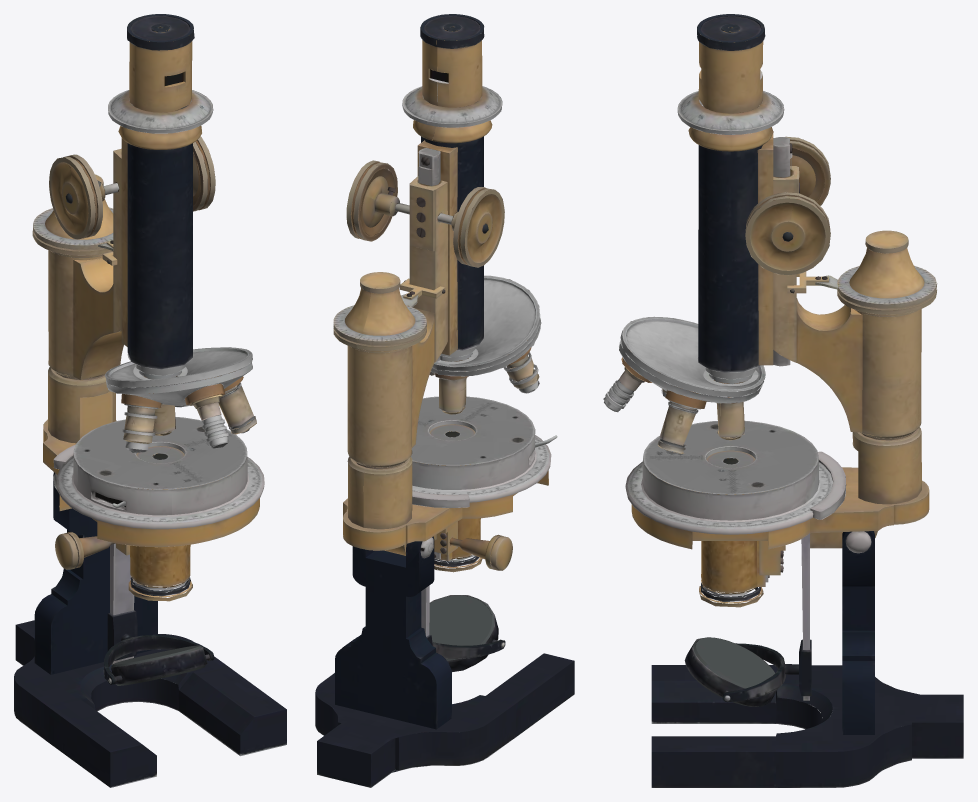
File: vintage_microscope.glb
3 views of the same model, side by side, from view 1: azimuth 30°, elevation 25°; view 2: azimuth 150°, elevation 25°; view 3: azimuth 270°, elevation 25° (orthographic). The views are drawn at different scales.
Parts seen in each view (by area): view 1: vintage_microscope_rack_mount_support, vintage_microscope_eye_piece, vintage_microscope_base, vintage_microscope_revolver, vintage_microscope_adjustment, vintage_microscope_mirror_arm, vintage_microscope_condenser, vintage_microscope_mirror_base; view 2: vintage_microscope_rack_mount_support, vintage_microscope_base, vintage_microscope_eye_piece, vintage_microscope_adjustment, vintage_microscope_mirror_base, vintage_microscope_revolver, vintage_microscope_condenser, vintage_microscope_mirror_arm; view 3: vintage_microscope_rack_mount_support, vintage_microscope_base, vintage_microscope_eye_piece, vintage_microscope_adjustment, vintage_microscope_revolver, vintage_microscope_condenser, vintage_microscope_mirror_base, vintage_microscope_mirror_arm.
Part boxes in pixels (x1=…): vintage_microscope_rack_mount_support: x1=32, y1=148, x2=264, y2=569; vintage_microscope_eye_piece: x1=104, y1=14, x2=252, y2=387; vintage_microscope_base: x1=14, y1=472, x2=286, y2=787; vintage_microscope_revolver: x1=106, y1=362, x2=256, y2=452; vintage_microscope_adjustment: x1=49, y1=136, x2=215, y2=239; vintage_microscope_mirror_arm: x1=103, y1=543, x2=214, y2=684; vintage_microscope_condenser: x1=128, y1=446, x2=192, y2=601; vintage_microscope_mirror_base: x1=111, y1=645, x2=207, y2=685; vintage_microscope_rack_mount_support: x1=333, y1=176, x2=557, y2=570; vintage_microscope_base: x1=315, y1=536, x2=574, y2=787; vintage_microscope_eye_piece: x1=402, y1=14, x2=540, y2=371; vintage_microscope_adjustment: x1=346, y1=160, x2=504, y2=267; vintage_microscope_mirror_base: x1=429, y1=595, x2=498, y2=671; vintage_microscope_revolver: x1=429, y1=318, x2=541, y2=414; vintage_microscope_condenser: x1=429, y1=424, x2=482, y2=572; vintage_microscope_mirror_arm: x1=421, y1=585, x2=505, y2=659; vintage_microscope_rack_mount_support: x1=625, y1=166, x2=937, y2=575; vintage_microscope_base: x1=651, y1=531, x2=963, y2=787; vintage_microscope_eye_piece: x1=620, y1=14, x2=792, y2=397; vintage_microscope_adjustment: x1=745, y1=136, x2=830, y2=275; vintage_microscope_revolver: x1=603, y1=340, x2=763, y2=455; vintage_microscope_condenser: x1=699, y1=450, x2=769, y2=607; vintage_microscope_mirror_base: x1=684, y1=637, x2=777, y2=706; vintage_microscope_mirror_arm: x1=722, y1=533, x2=811, y2=702.
Size of the model in its own units: 0.1065 by 0.3996 by 0.1821.
Materials: 2 (2 with a texture image).
